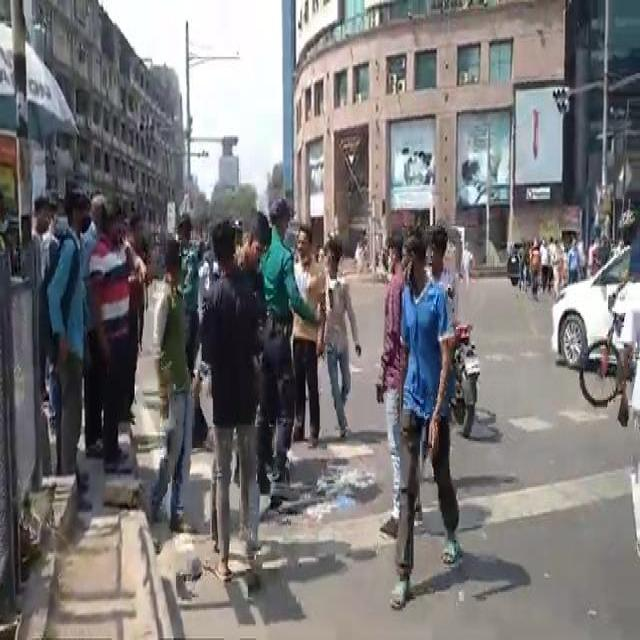fight: (20, 143, 154, 472), (376, 224, 470, 603), (255, 193, 358, 475)
